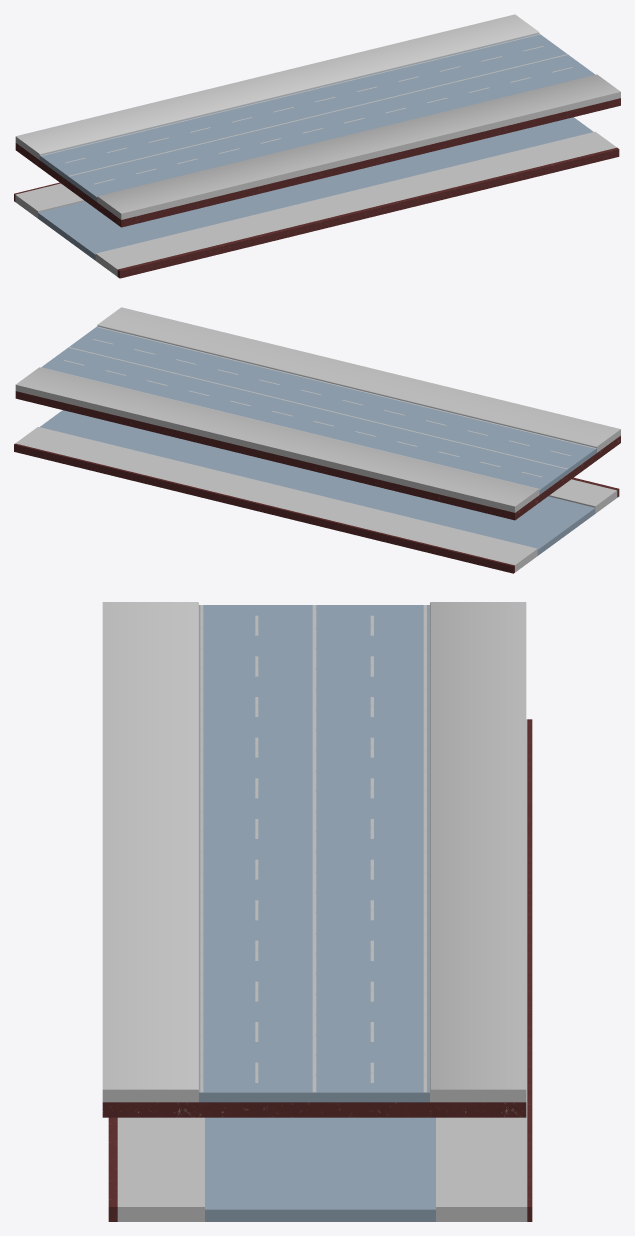
The model's file is Bridge_001.fbx.
The picture shows the model from 3 angles, top to bottom: view 1: azimuth 30°, elevation 25°; view 2: azimuth 150°, elevation 25°; view 3: azimuth 270°, elevation 25°; orthographic projection. The views are drawn at different scales.
Visible parts, largest first — view 1: Bridge_001; view 2: Bridge_001; view 3: Bridge_001.
Boxes of the visible parts, x1,y1,x2,y2 form: Bridge_001: (14, 14, 620, 278); Bridge_001: (14, 307, 620, 573); Bridge_001: (102, 602, 532, 1221).
Size of the model in its own units: 6001 by 758 by 2233.
